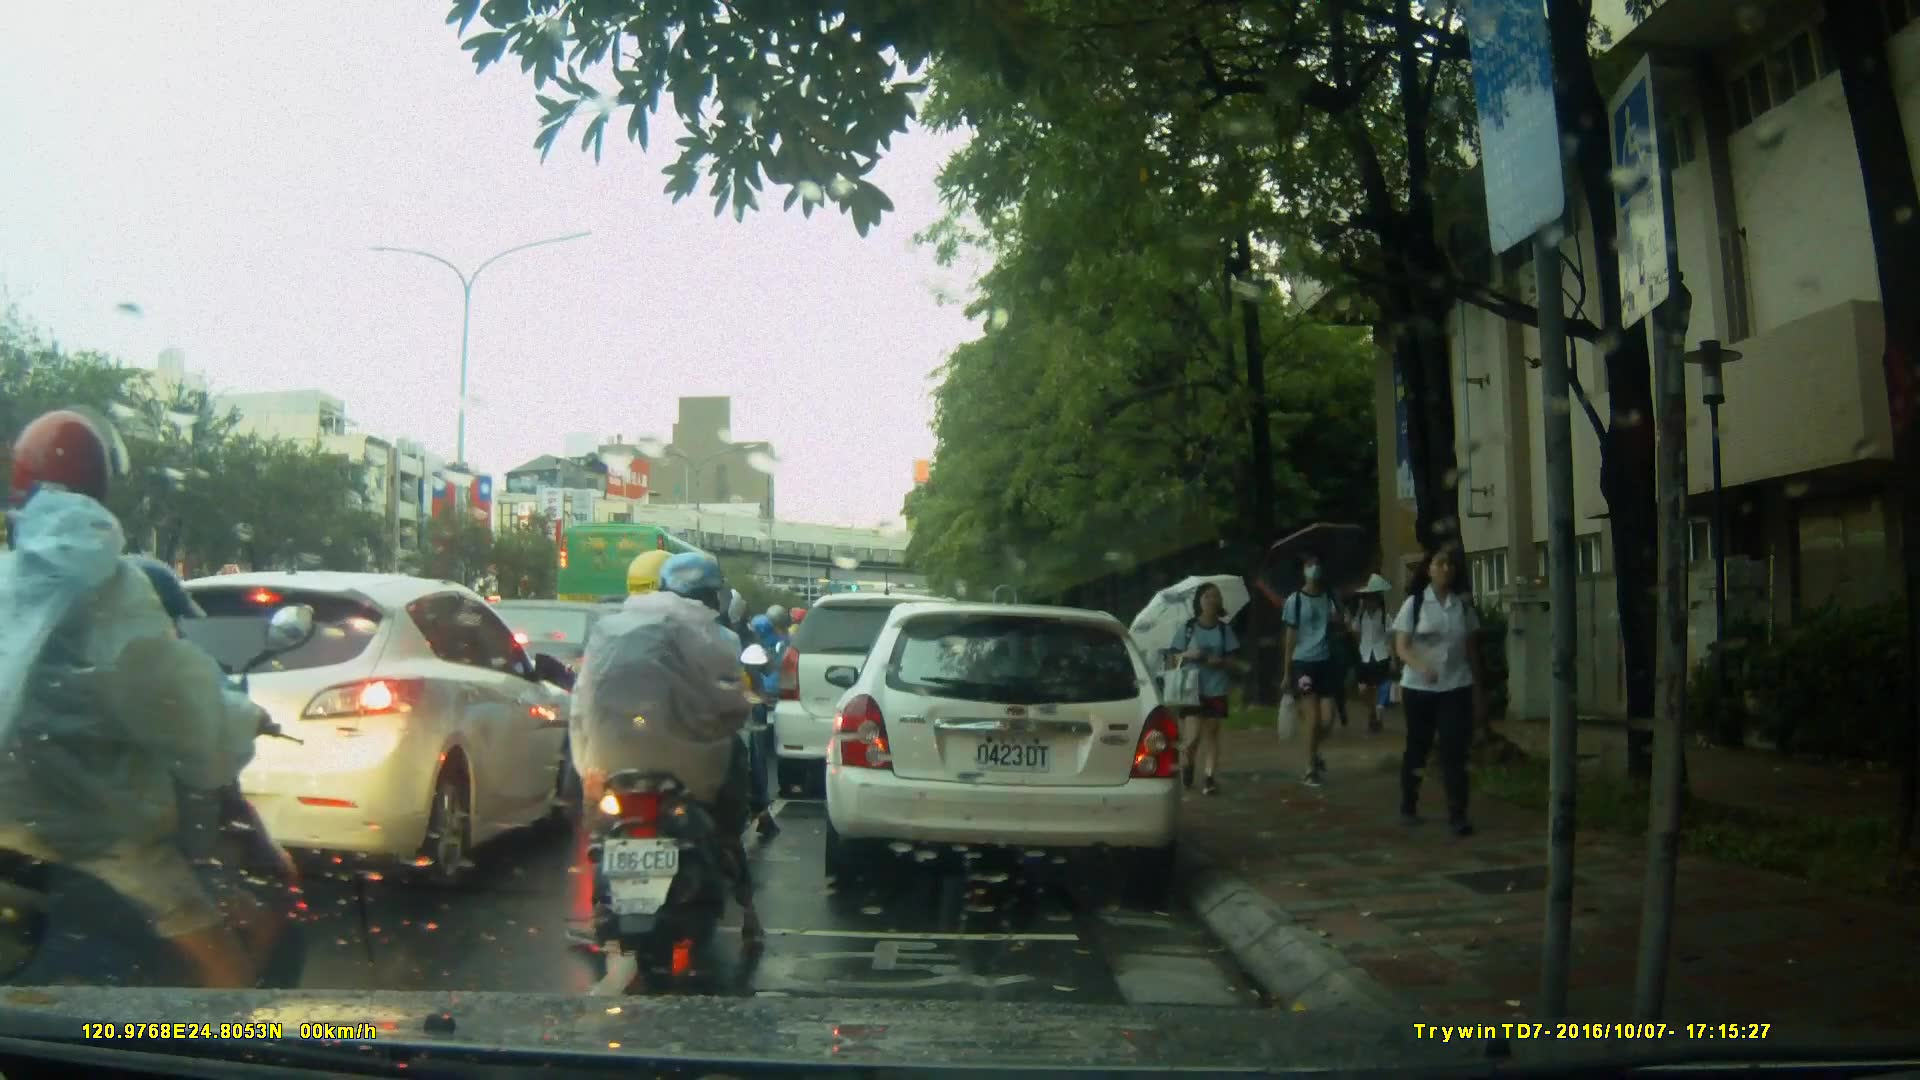pedestrian: (1384, 532, 1502, 844), (1267, 552, 1351, 795), (1168, 580, 1239, 798), (1134, 604, 1174, 741)
rider: (1, 404, 349, 1069), (554, 549, 778, 963), (647, 581, 760, 833), (737, 599, 797, 747)
vehicle: (93, 569, 589, 883), (822, 604, 1186, 882), (774, 595, 995, 802), (554, 519, 739, 666)
